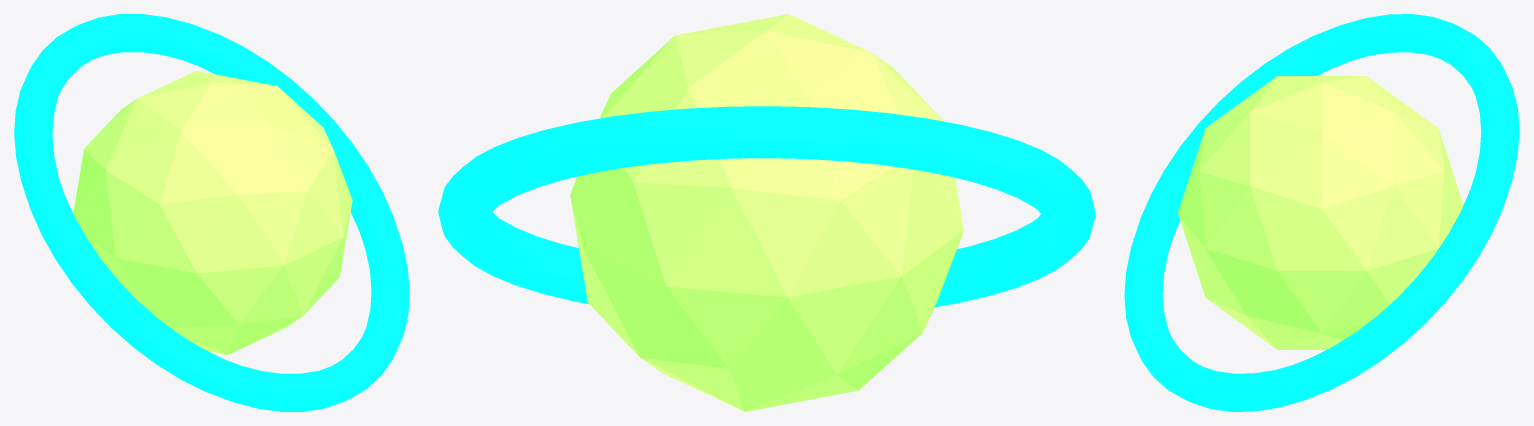
The model's file is anomaly_bio.glb.
3 renders of one model, left to right at view 1: azimuth 30°, elevation 25°; view 2: azimuth 150°, elevation 25°; view 3: azimuth 270°, elevation 25°, orthographic. The views are drawn at different scales.
Visible parts, largest first — view 1: Icosphere, Torus; view 2: Icosphere, Torus; view 3: Icosphere, Torus.
Boxes of the visible parts, left/top/right/bottom form: Icosphere: left=73, top=71, right=352, bottom=354; Torus: left=14, top=14, right=409, bottom=411; Icosphere: left=570, top=14, right=963, bottom=411; Torus: left=438, top=106, right=1095, bottom=307; Icosphere: left=1178, top=76, right=1463, bottom=349; Torus: left=1124, top=14, right=1519, bottom=411.
Size of the model in its own units: 2.79 by 1.99 by 2.47.
